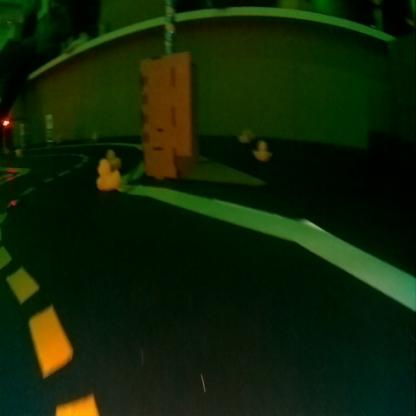Duckie: (96, 158, 120, 190), (252, 140, 272, 160)
